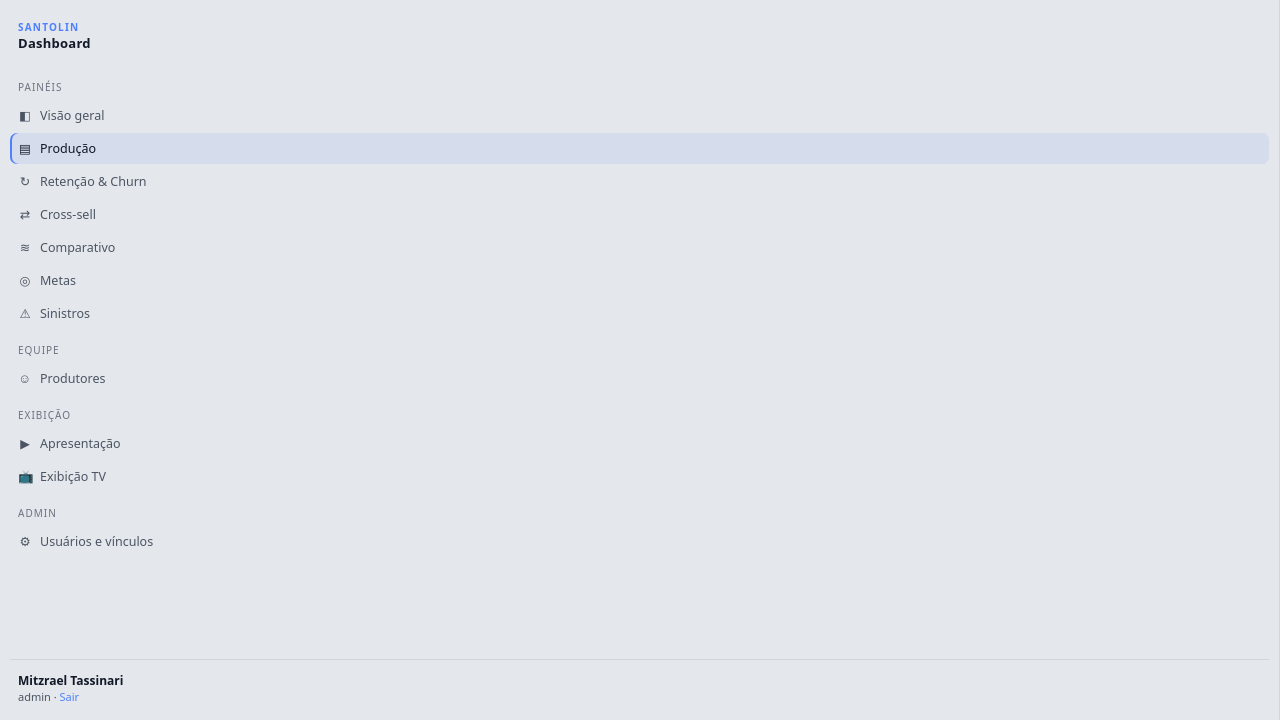
BarraLateral › Exibição TV reaproveita o menu de escolha do painel (sem repetir os ids do cabeçalho)
What coordinates should you click on to do the following:
click the button "📺 Exibição TV"
I would click on:
 (73, 476)
Its box is 10,461 -> 1269,492.
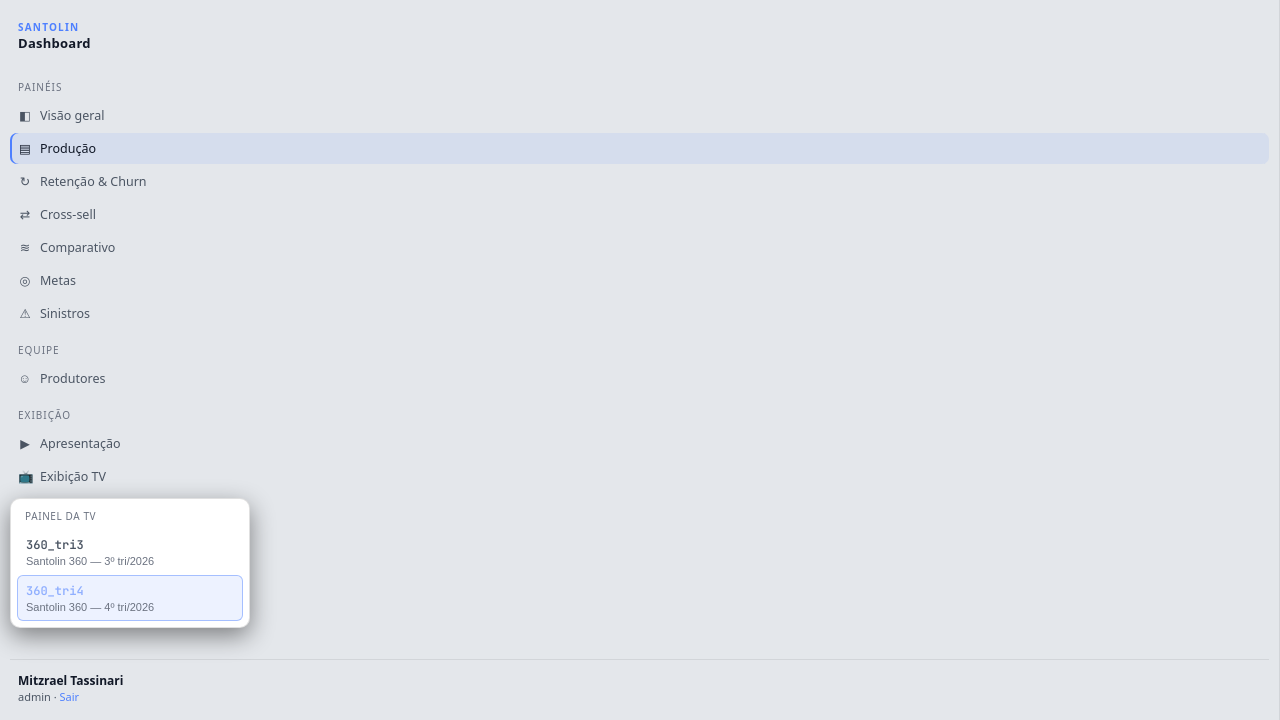
Now the menu named "Escolha o painel da TV" is shown, box 10,498 -> 250,628
